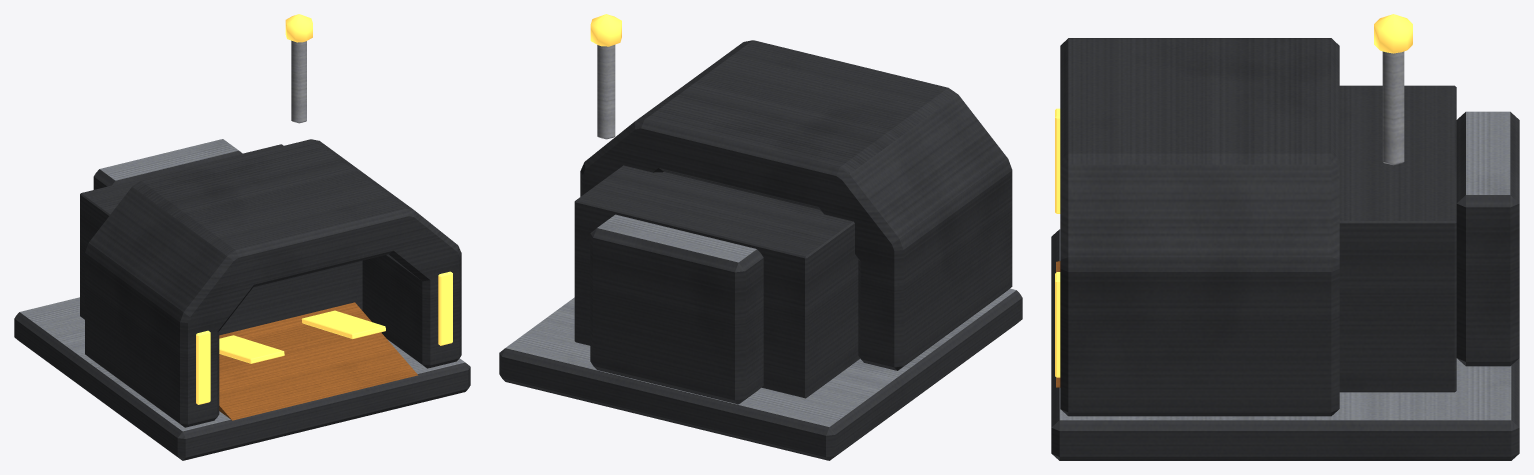
The model's file is R4X_GroundDroneDeployer_LOD1.glb.
The picture shows the model from 3 angles, left to right: view 1: azimuth 30°, elevation 25°; view 2: azimuth 150°, elevation 25°; view 3: azimuth 270°, elevation 25°; orthographic projection. The views are drawn at different scales.
Parts seen in each view (by area): view 1: R4X_GroundDroneDeployer_LOD1; view 2: R4X_GroundDroneDeployer_LOD1; view 3: R4X_GroundDroneDeployer_LOD1.
Boxes of the visible parts, x1,y1,x2,y2 form: R4X_GroundDroneDeployer_LOD1: (14, 14, 470, 460); R4X_GroundDroneDeployer_LOD1: (499, 14, 1022, 460); R4X_GroundDroneDeployer_LOD1: (1051, 14, 1519, 460).
Size of the model in its own units: 0.52 by 0.51 by 0.52.
5 materials, 4 textured.
